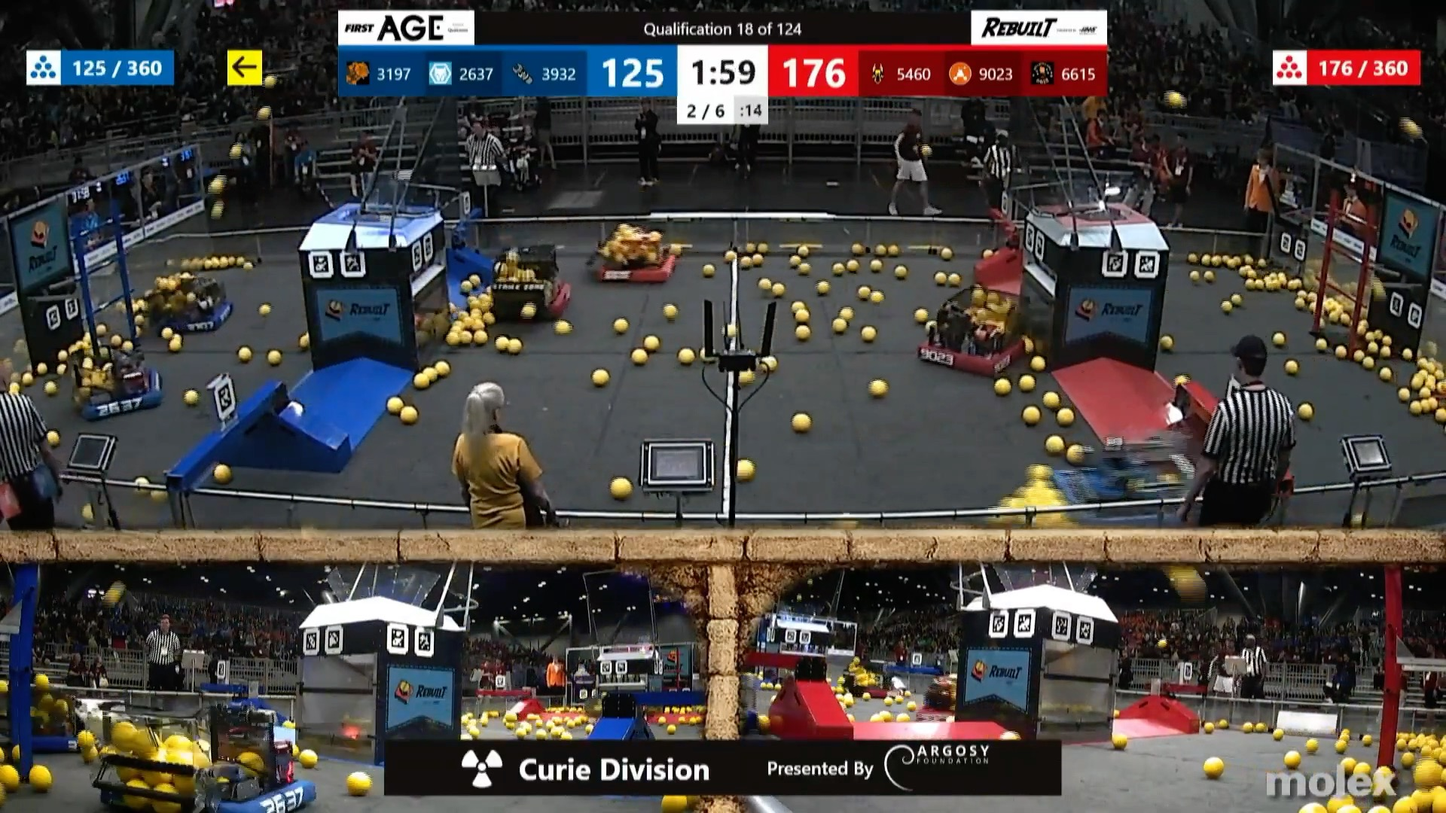bumpers: (38, 352, 181, 427), (90, 772, 323, 813), (1048, 465, 1188, 531), (449, 272, 578, 327), (908, 326, 1029, 382), (151, 294, 250, 337), (585, 249, 684, 288)
